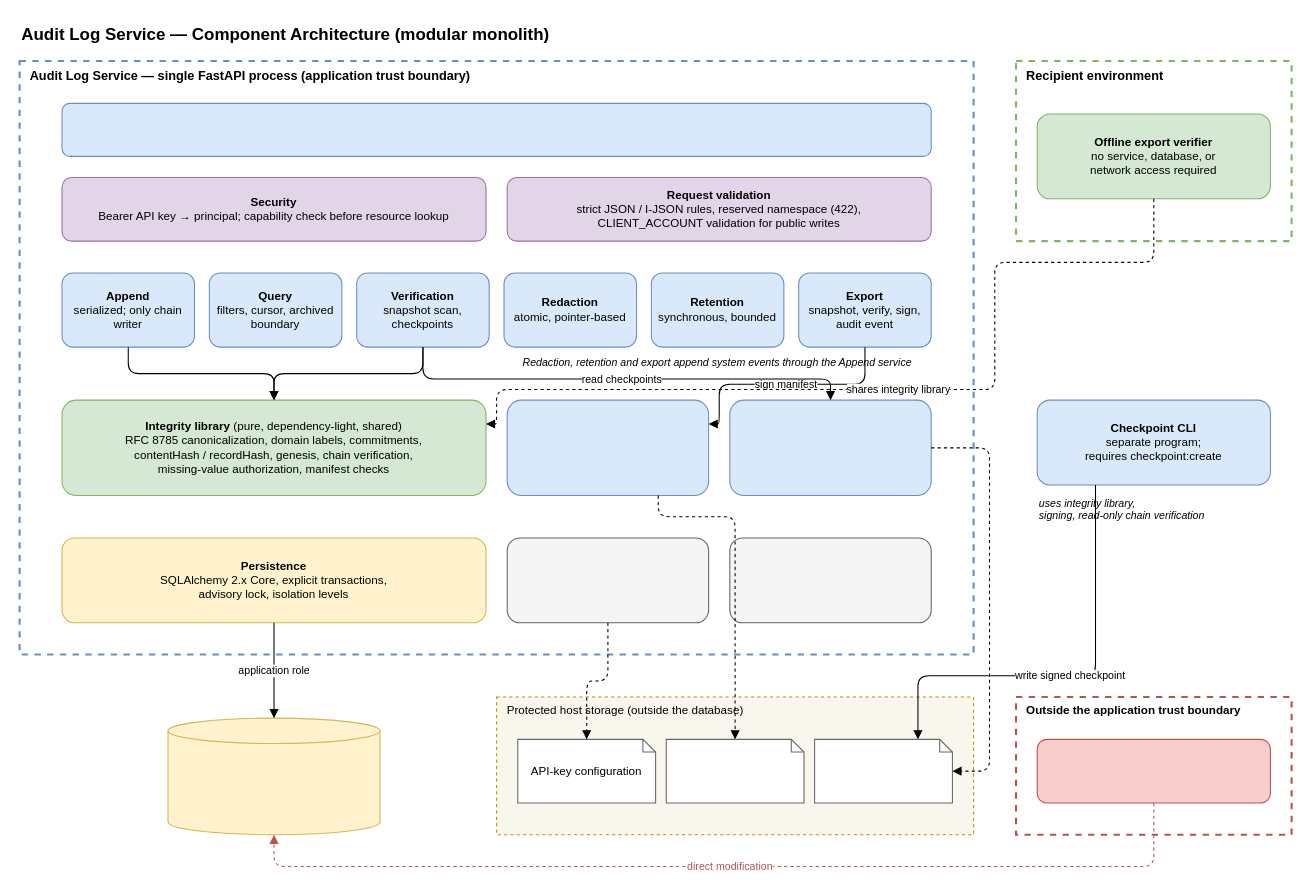
This 1310x894 diagram has some shape labels left out. The shapes that lost their labels are listed below. From the top down, each one's centre as x and y in pixels, then its label:
At (496,129): "API layer — routers, status codes, Location headers, OpenAPI".
At (607,447): "Signing Ed25519, keyId".
At (830,447): "Checkpoint store adapter (read only in the service)".
At (607,580): "Configuration settings, limits, vocabulary".
At (830,580): "Observability and errors request IDs, safe logs, RFC 9457 Problem Details".
At (273,776): "PostgreSQL immutable records + recoverable values/salts".
At (734,770): "Signing keys".
At (883,770): "Checkpoint store".
At (1153,770): "Tamper tooling privileged database access".
